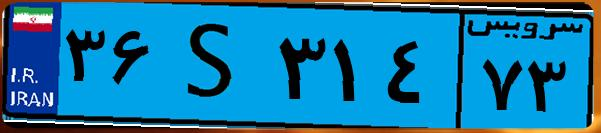1: (330, 28, 385, 110)
3: (270, 28, 330, 110), (57, 26, 110, 100), (525, 38, 570, 115)
4: (385, 28, 445, 110)
6: (110, 28, 158, 98)
7: (475, 38, 525, 113)
S: (158, 12, 270, 120)
